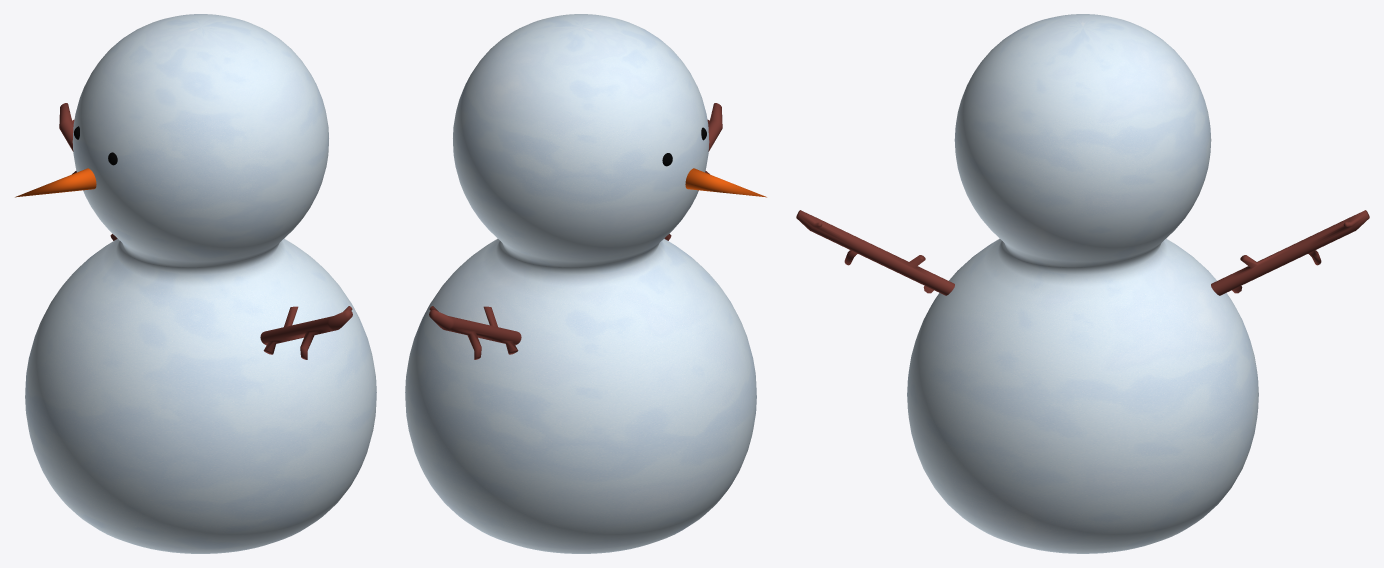
The model's file is 눈사람.fbx.
3 renders of one model, left to right at view 1: azimuth 30°, elevation 25°; view 2: azimuth 150°, elevation 25°; view 3: azimuth 270°, elevation 25°, orthographic.
Parts seen in each view (by area): view 1: snow man; view 2: snow man; view 3: snow man.
Boxes of the visible parts, x1=… form: snow man: x1=15, y1=14, x2=376, y2=553; snow man: x1=405, y1=14, x2=766, y2=553; snow man: x1=796, y1=14, x2=1369, y2=553.
Bounding box in the file's own units: 220 × 304 × 322.
Materials: 4 (1 with a texture image).
